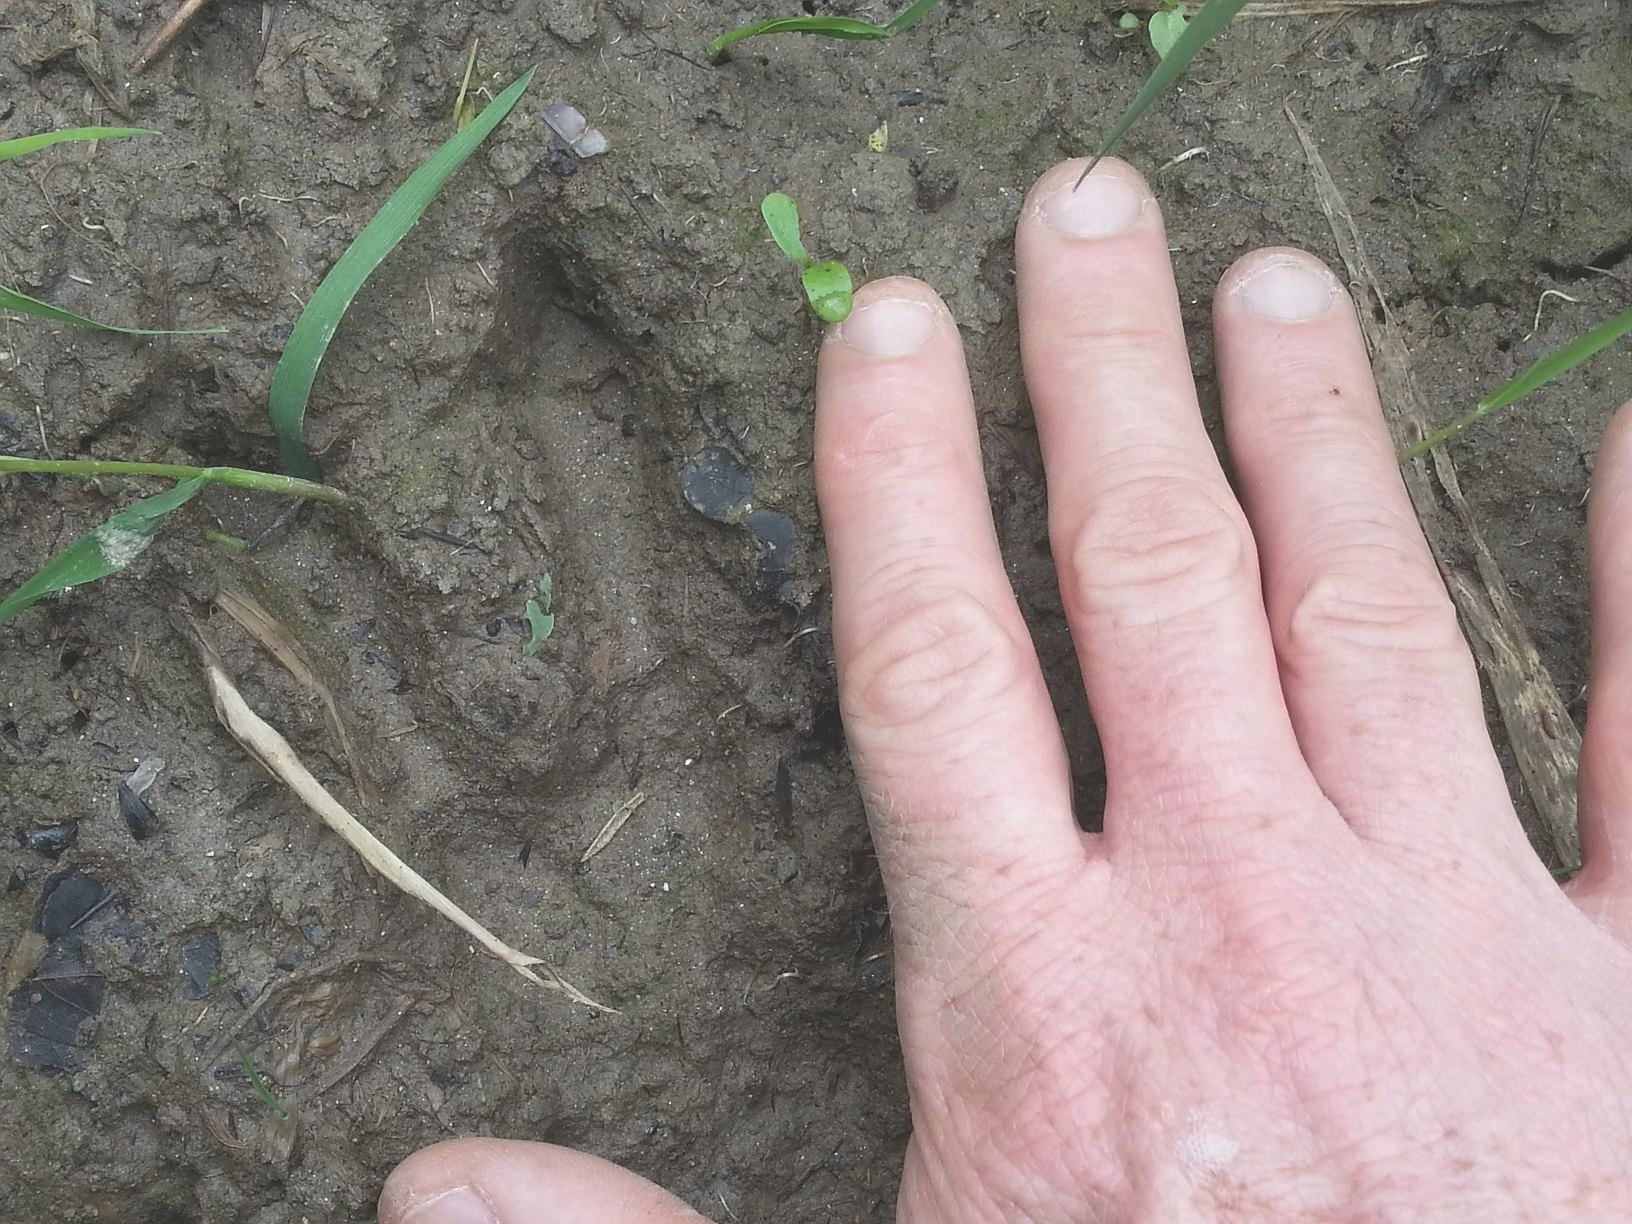beaver: (148, 150, 879, 1122)
